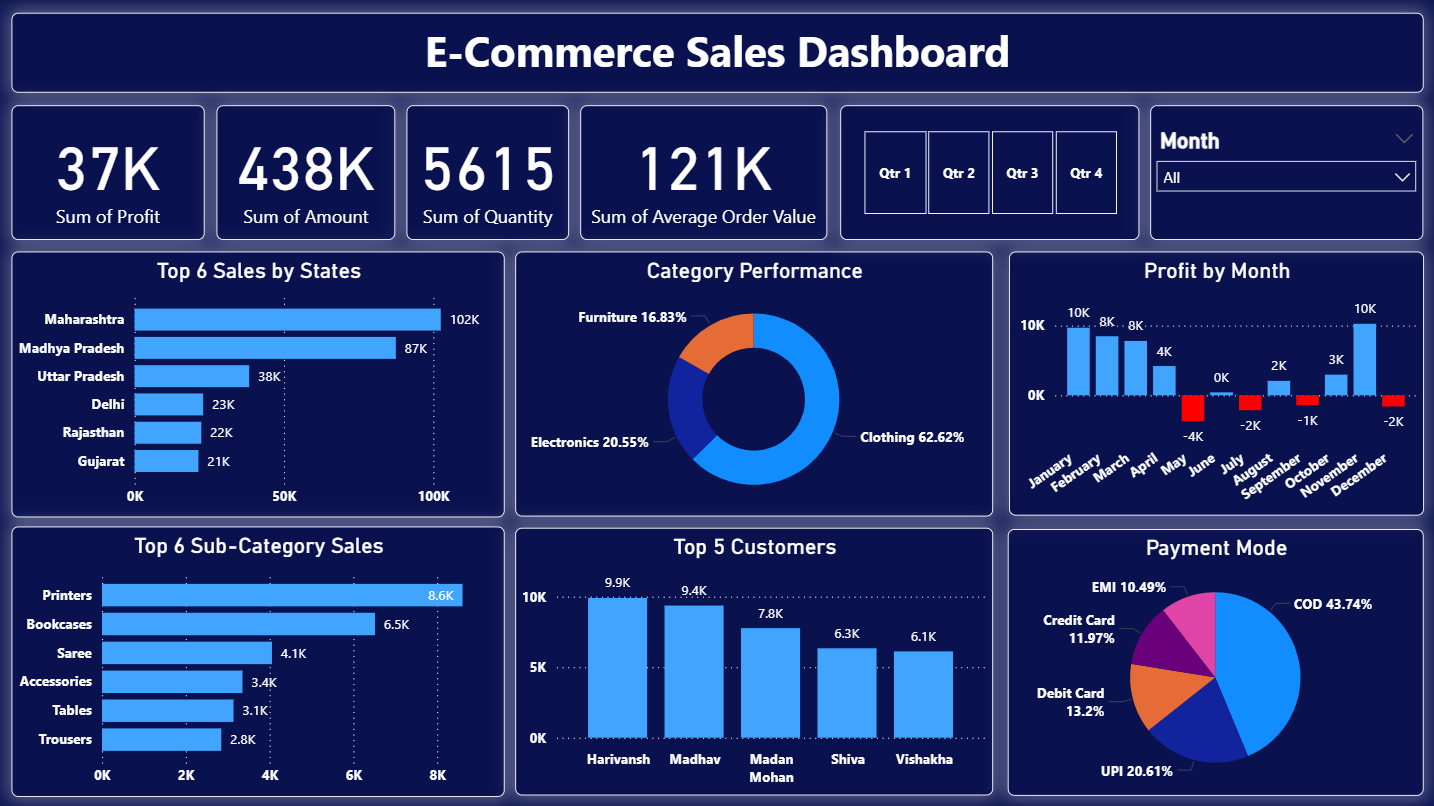

This screenshot's page, from the dashboard's own definition file:
{"tool":"powerbi","page":{"name":"Page 1","canvas":[1280,720],"ordinal":0},"visuals":[{"type":"textbox","box":[11,12.3,1257.7,71.2],"z":0},{"type":"card","fields":{"Values":["CustomerDetails.Profit"]},"box":[11,94.5,171.8,120.2],"z":1},{"type":"card","fields":{"Values":["CustomerDetails.Amount"]},"box":[193.9,94.5,159.5,120.2],"z":2},{"type":"card","fields":{"Values":["CustomerDetails.Quantity"]},"box":[363.2,94.5,144.8,120.2],"z":3},{"type":"card","fields":{"Values":["CustomerDetails.Average Order Value"]},"box":[517.8,94.5,219.6,120.2],"z":4},{"type":"clusteredBarChart","title":"Top 6 Sales by States","fields":{"Category":["OrdersDetails.State"],"Y":["CustomerDetails.Amount"]},"box":[11,224.5,439.3,236.8],"z":6},{"type":"donutChart","title":"Category Performance","fields":{"Y":["CustomerDetails.Quantity"],"Category":["CustomerDetails.Category"]},"box":[459.7,225,425.4,236],"z":7},{"type":"clusteredBarChart","title":"Top 6 Sub-Category Sales","fields":{"Category":["CustomerDetails.Sub-Category"],"Y":["CustomerDetails.Profit"]},"box":[11,469.9,439.3,240.5],"z":8},{"type":"columnChart","title":"Top 5 Customers","fields":{"Category":["OrdersDetails.CustomerName"],"Y":["CustomerDetails.Amount"]},"box":[459.7,470.7,425.4,238.8],"z":9},{"type":"pieChart","title":"Payment Mode","fields":{"Y":["CustomerDetails.Quantity"],"Category":["CustomerDetails.PaymentMode"]},"box":[898.8,472,370.5,237.4],"z":10},{"type":"columnChart","title":"Profit by Month","fields":{"Category":["OrdersDetails.Order Date.Variation.Date Hierarchy.Month"],"Y":["CustomerDetails.Profit"]},"box":[899.4,224.5,369.3,235.6],"z":11},{"type":"slicer","fields":{"Values":["OrdersDetails.Order Date.Variation.Date Hierarchy.Quarter"]},"box":[749.7,94.5,266.3,120.2],"z":12},{"type":"slicer","fields":{"Values":["OrdersDetails.Order Date.Variation.Date Hierarchy.Month"]},"box":[1025.8,94.5,242.9,120.2],"z":13}]}

Visuals, with their boxes in screenshot pixels (x1, y1, x2, y2), scaled from the page's 1280x720 canvas onto the 1434x806 screenshot:
textbox: region(12, 14, 1421, 93)
card - CustomerDetails.Profit: region(12, 106, 205, 240)
card - CustomerDetails.Amount: region(217, 106, 396, 240)
card - CustomerDetails.Quantity: region(407, 106, 569, 240)
card - CustomerDetails.Average Order Value: region(580, 106, 826, 240)
"Top 6 Sales by States" clusteredBarChart: region(12, 251, 504, 516)
"Category Performance" donutChart: region(515, 252, 992, 516)
"Top 6 Sub-Category Sales" clusteredBarChart: region(12, 526, 504, 795)
"Top 5 Customers" columnChart: region(515, 527, 992, 794)
"Payment Mode" pieChart: region(1007, 528, 1422, 794)
"Profit by Month" columnChart: region(1008, 251, 1421, 515)
slicer - OrdersDetails.Order Date.Variation.Date Hierarchy.Quarter: region(840, 106, 1138, 240)
slicer - OrdersDetails.Order Date.Variation.Date Hierarchy.Month: region(1149, 106, 1421, 240)
